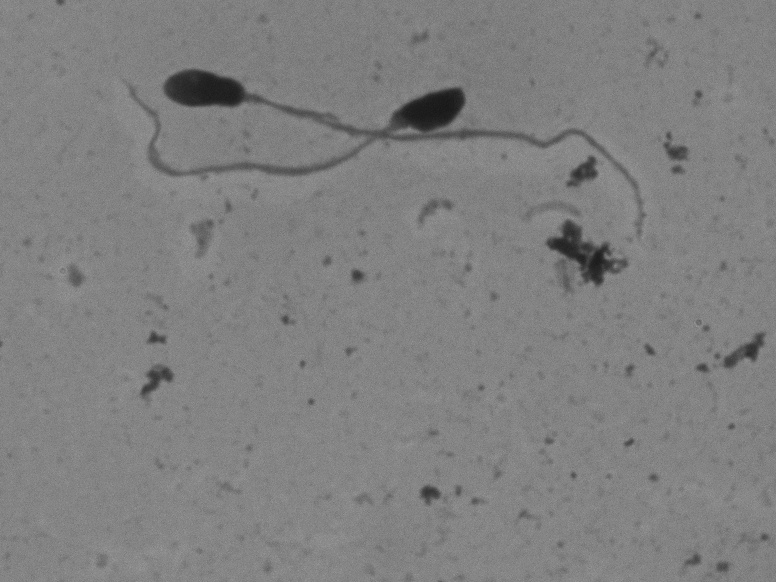Abnormal: (156, 53, 698, 262), (99, 57, 478, 189)
